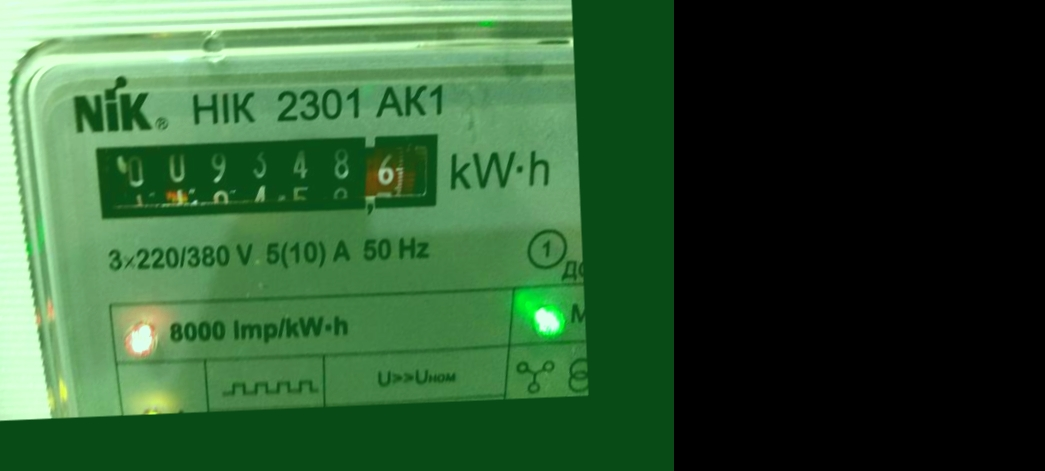0: (164, 148, 187, 185), (123, 151, 145, 187)
3: (246, 145, 270, 178)
4: (286, 144, 309, 181)
6: (374, 150, 397, 185)
8: (329, 144, 351, 179)
9: (207, 147, 227, 182)
screen: (71, 116, 460, 234)
